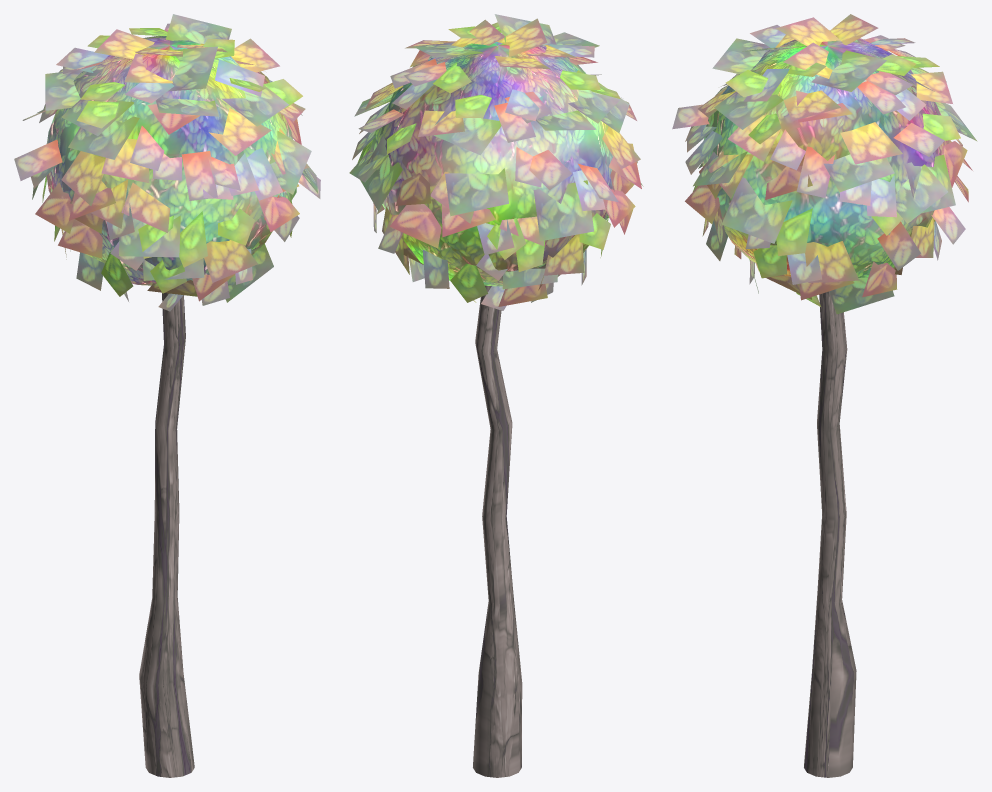
The model's file is bay_tree01_SM.fbx.
3 views of the same model, side by side, from view 1: azimuth 30°, elevation 25°; view 2: azimuth 150°, elevation 25°; view 3: azimuth 270°, elevation 25° (orthographic).
Parts seen in each view (by area): view 1: bay_tree01_SM_LOD0; view 2: bay_tree01_SM_LOD0; view 3: bay_tree01_SM_LOD0.
Boxes of the visible parts, x1,y1,x2,y2 form: bay_tree01_SM_LOD0: [14, 14, 320, 777]; bay_tree01_SM_LOD0: [349, 14, 643, 777]; bay_tree01_SM_LOD0: [672, 14, 977, 777].
Size of the model in its own units: 111 by 111 by 294.
Materials: 2 (2 with a texture image).
